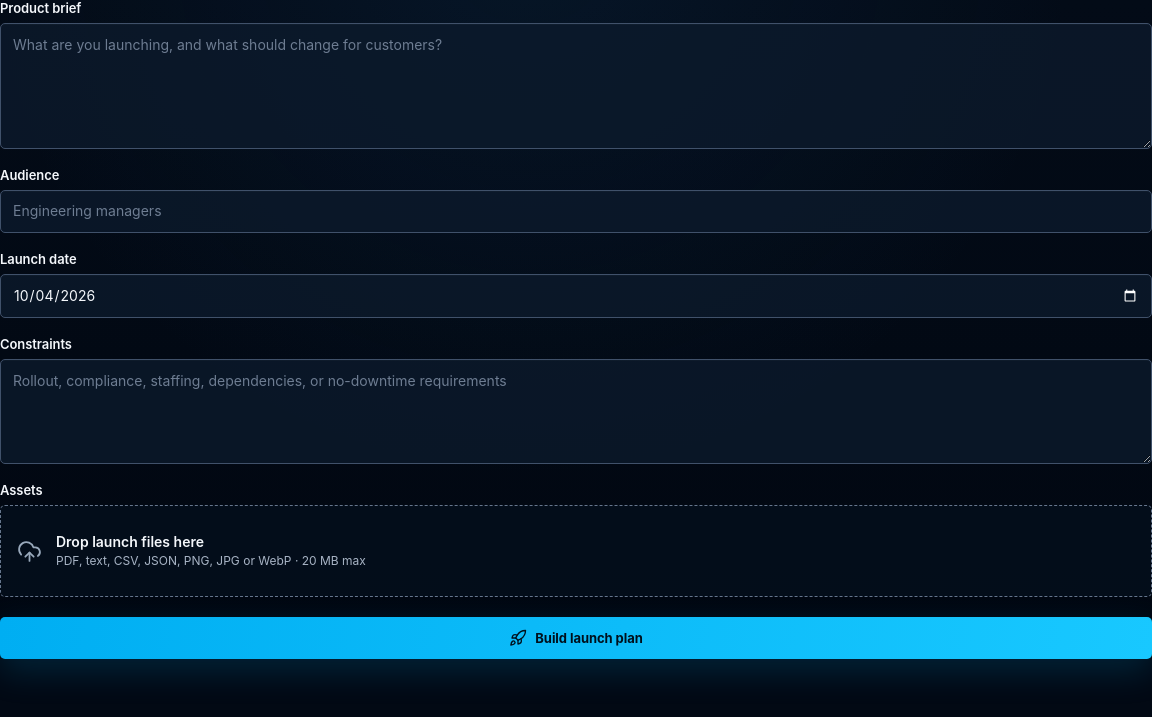
Test: LaunchBriefForm › shows an accessible summary for missing and invalid values
Type "A" into the text box labelled "Product brief". click: (576, 86)
box: [0,23,1151,149]
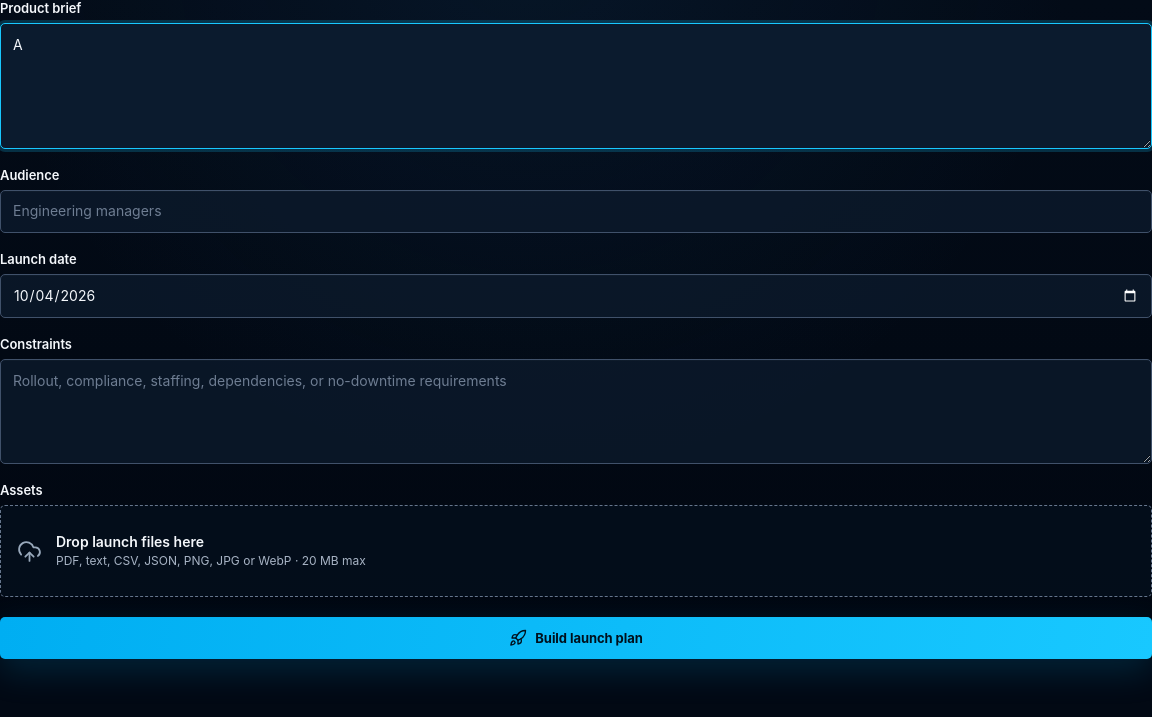
Type "2020-01-01" into the date field labelled "Launch date". click: (576, 296)
box: [0,274,1151,318]
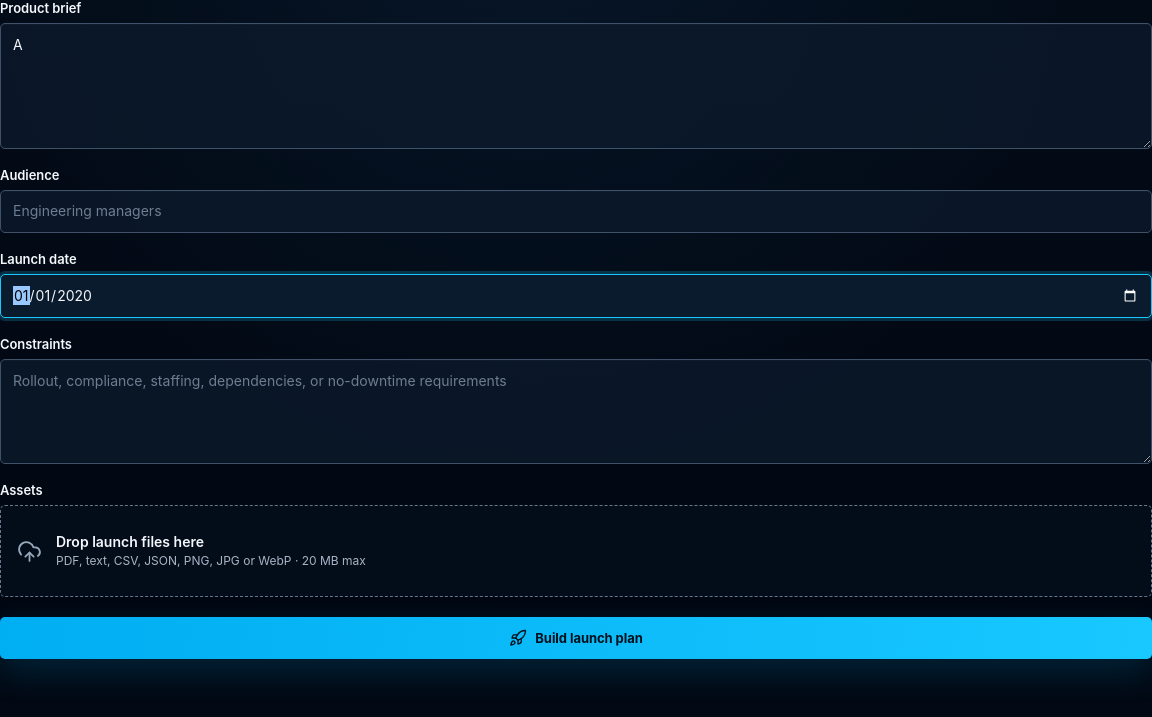
Click the button "Build launch plan". click: click(576, 638)
box: [0,618,1151,660]
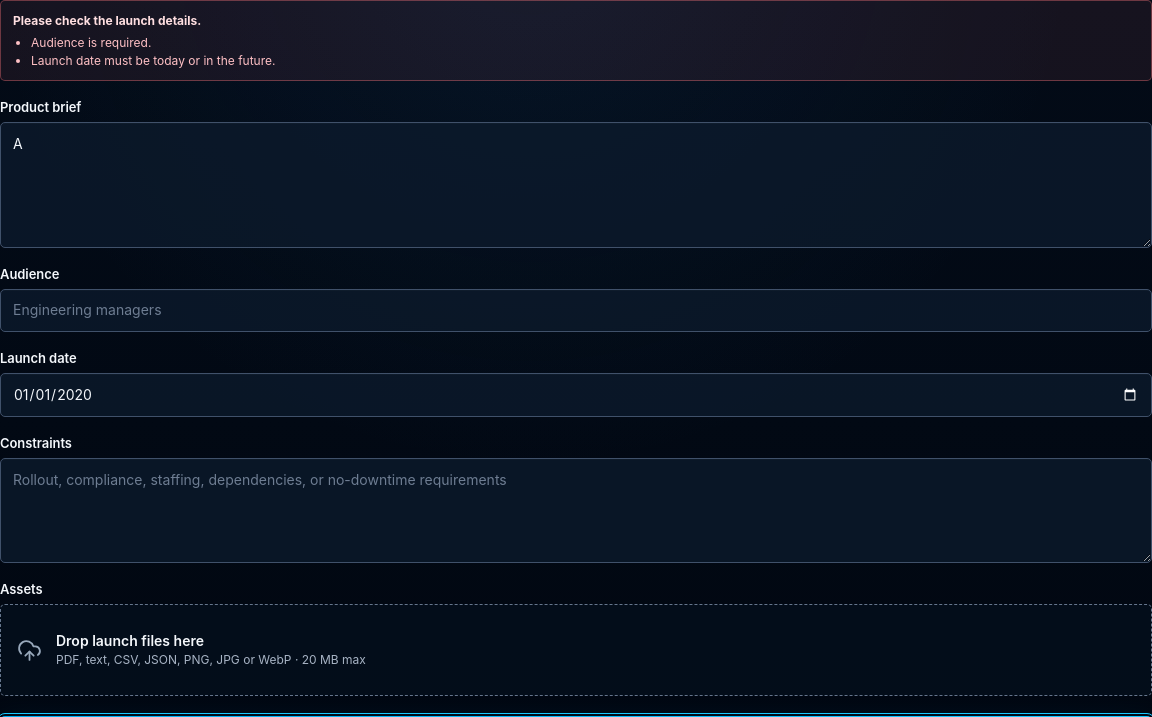
Expected: the message shows "Audience is required", [31,35,151,50]
Expected: the message shows "today or in the future", [31,53,276,68]
